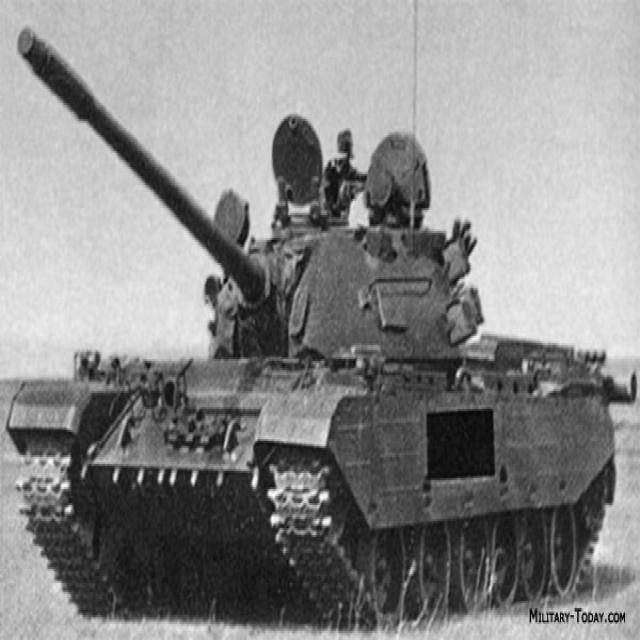Tank: (6, 11, 628, 621)
